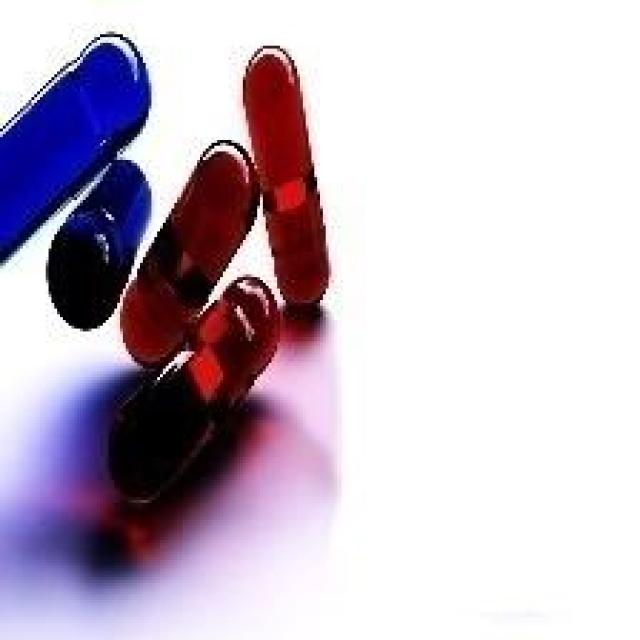Medicine: (0, 0, 357, 394)
